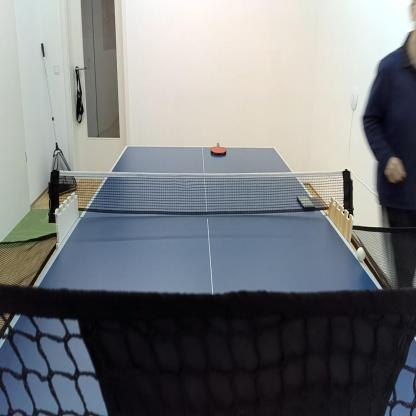Ball: (358, 247, 366, 262)
